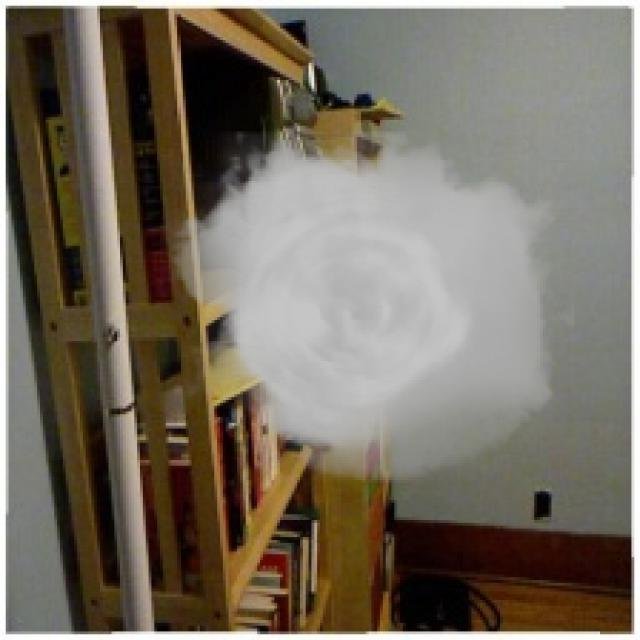Smoke: (160, 131, 574, 483)
